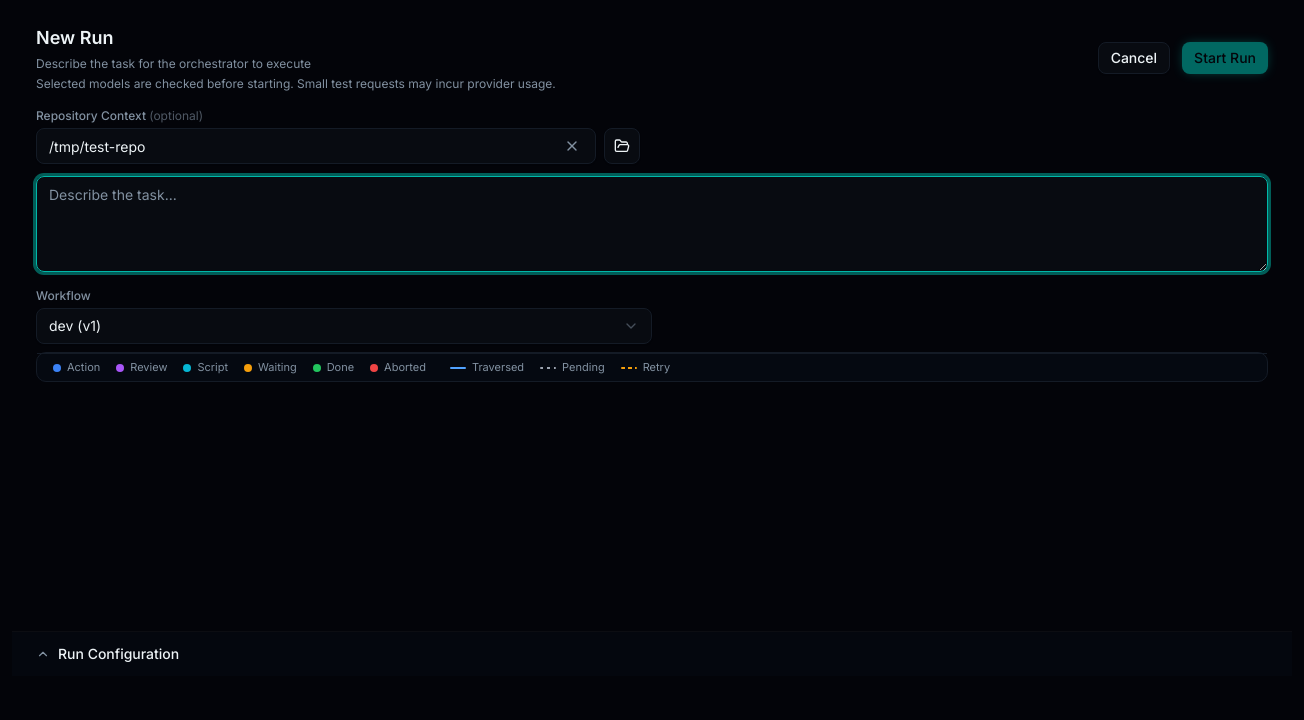
Test: NewRunPage › shows clear button when repoRoot is set and clears on click
This screenshot has width=1304, height=720.
Check: the field with placeholder "Defaults to system temp directory" holds "/tmp/test-repo", box [36,128,596,164]
Click the button named "Clear repository context". click: (572, 146)
box: [556,130,588,162]
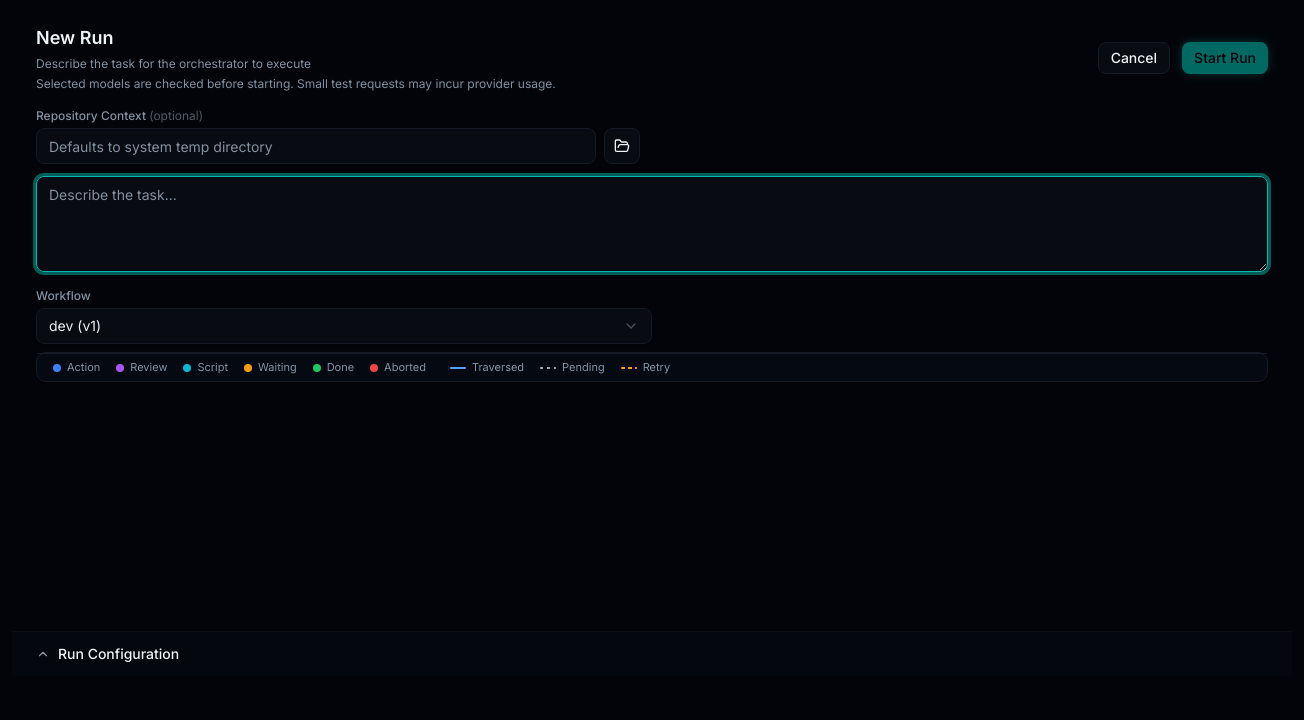
Check: the field with placeholder "Defaults to system temp directory" is empty, box [36,128,596,164]
